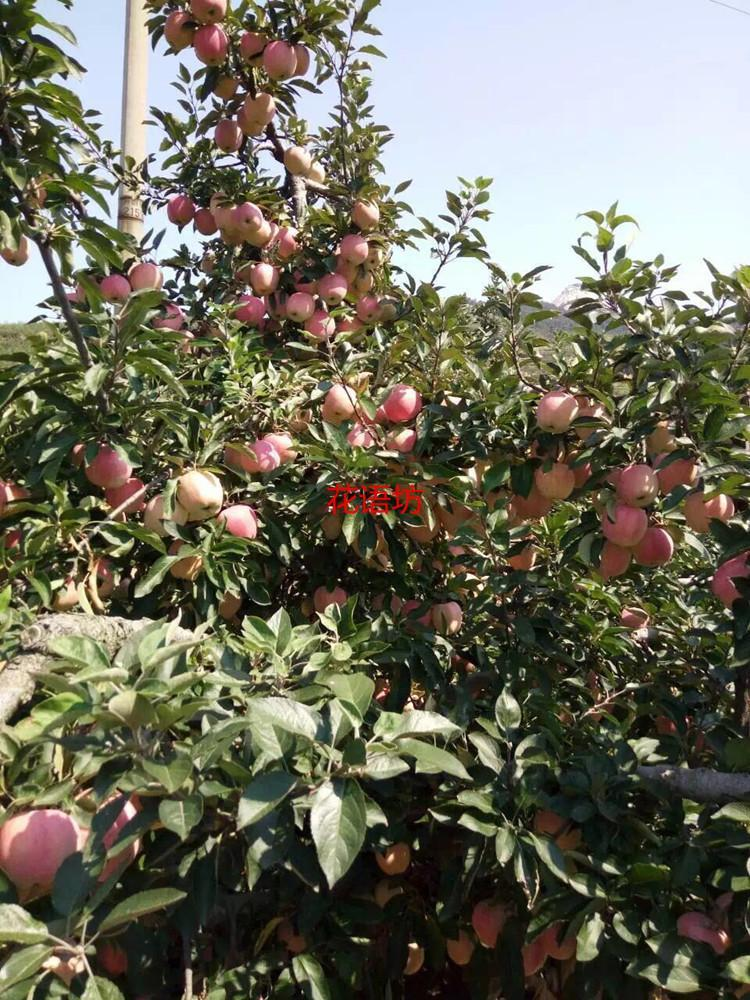apple: (1, 807, 77, 891), (685, 483, 734, 532), (652, 446, 701, 495), (176, 467, 223, 518), (83, 443, 130, 489), (615, 462, 660, 510), (602, 503, 646, 545), (537, 391, 578, 433), (632, 526, 671, 565), (381, 386, 421, 423), (103, 477, 143, 514), (261, 38, 297, 79), (192, 24, 228, 64), (218, 504, 257, 540), (241, 90, 274, 127), (325, 384, 356, 421), (233, 202, 262, 233), (98, 273, 130, 301), (166, 194, 194, 225), (339, 233, 368, 262), (129, 262, 158, 289), (193, 209, 217, 236)
